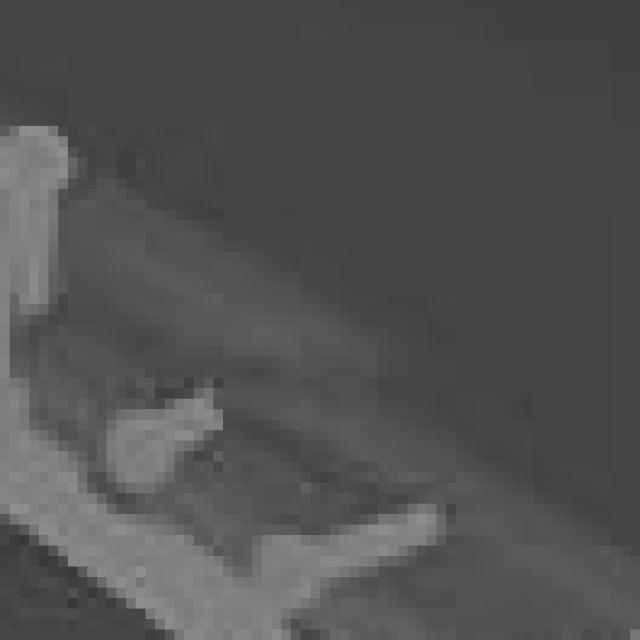fracture: (2, 5, 639, 640)
